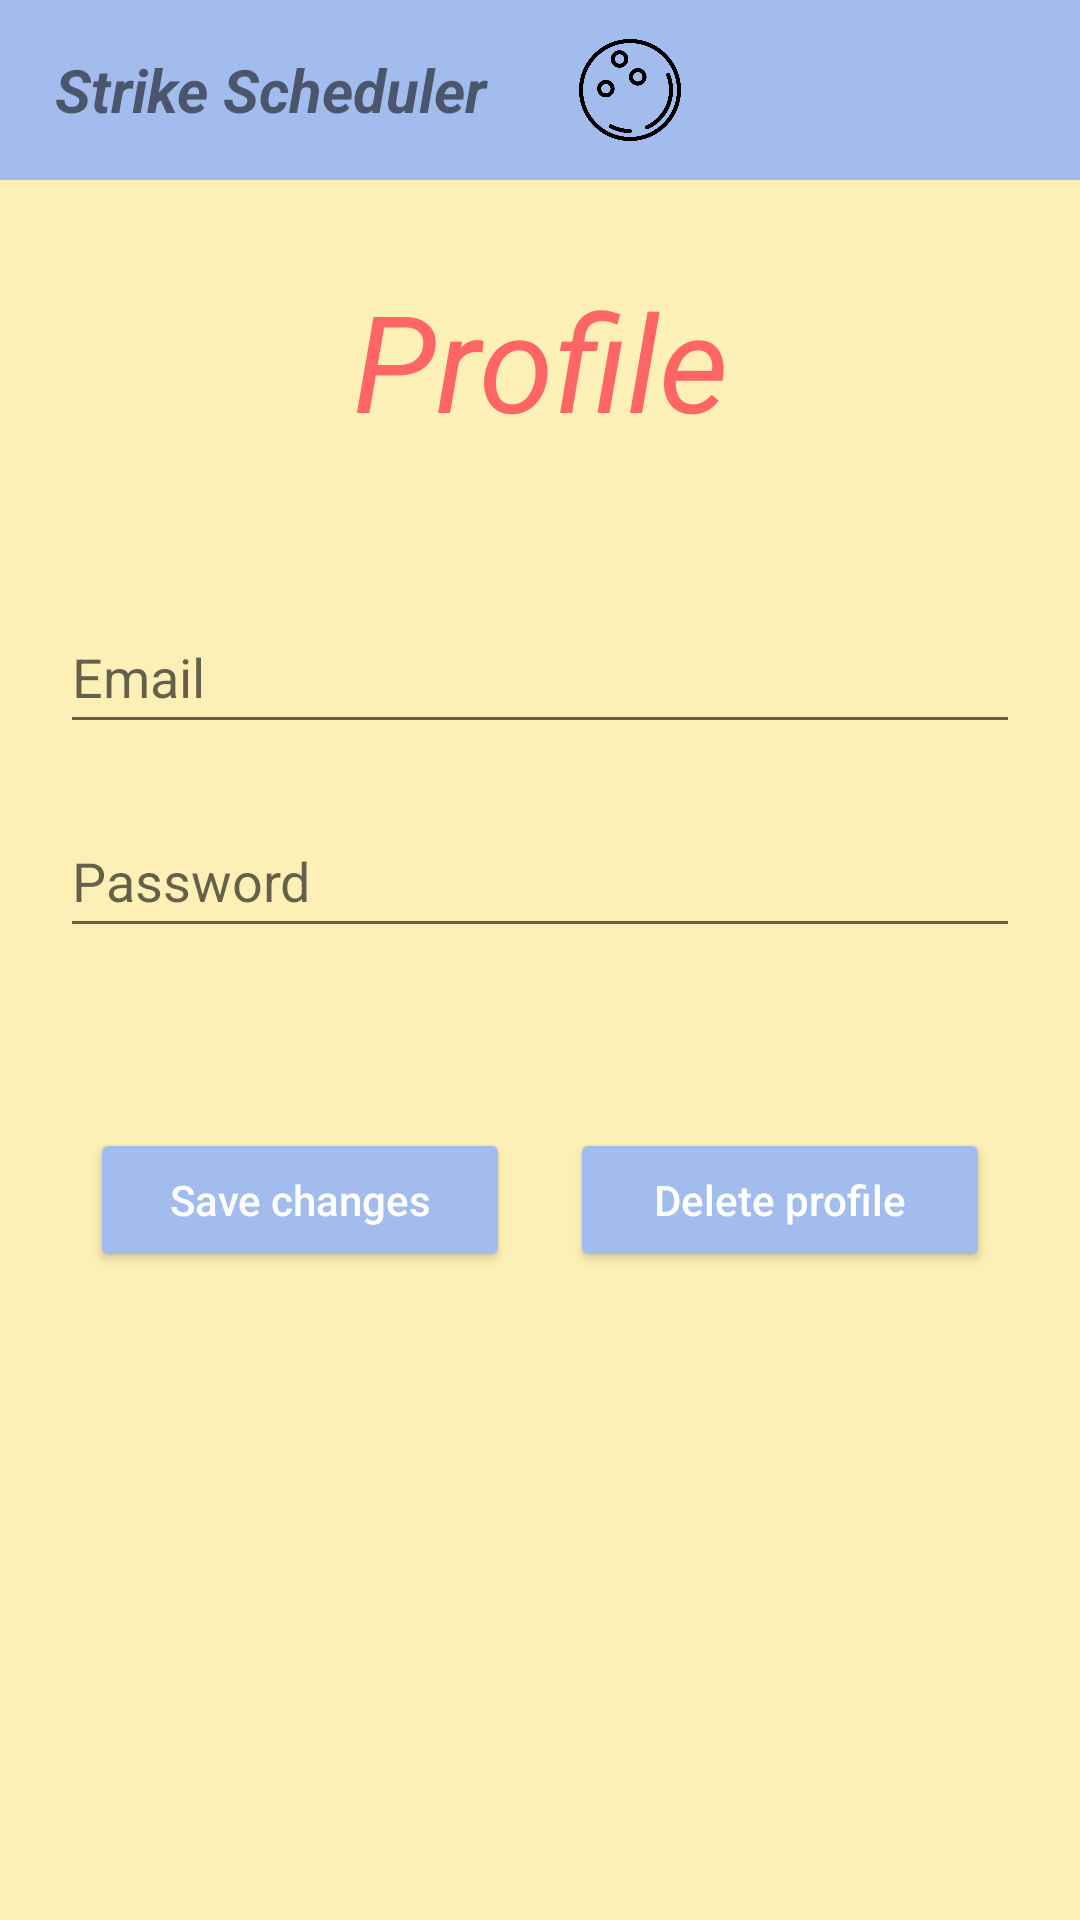

Where to tap for icons on this 1080x1920 app screen, as point (x, y):
Bowling: point (630, 90)
